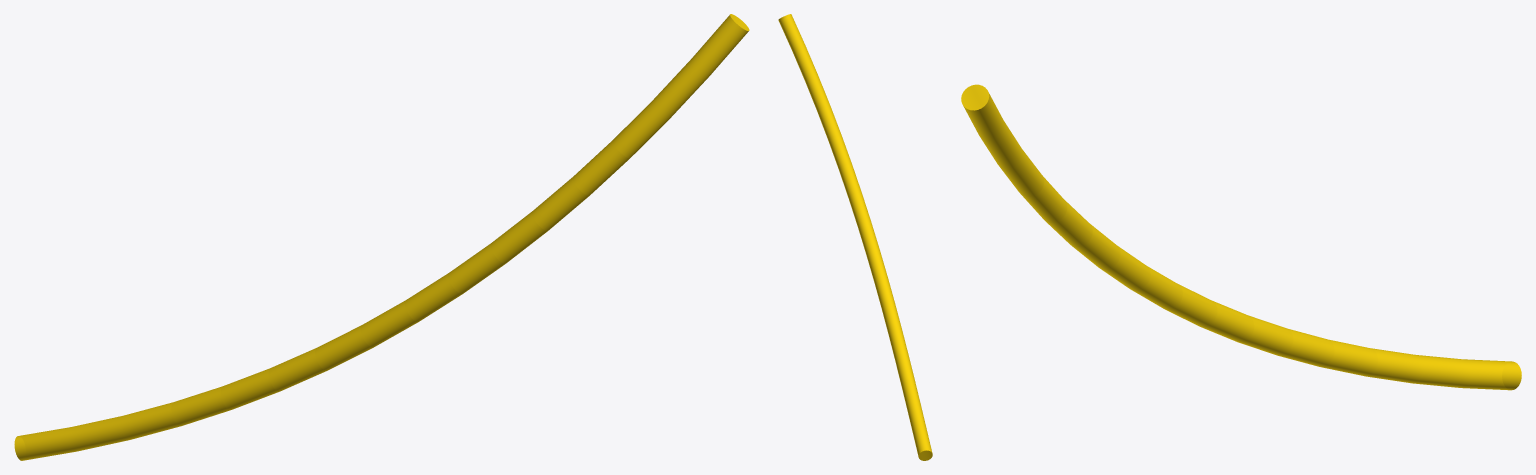
Rendered from Event_421115418_track_50.fbx.
3 renders of one model, left to right at view 1: azimuth 30°, elevation 25°; view 2: azimuth 150°, elevation 25°; view 3: azimuth 270°, elevation 25°, orthographic. The views are drawn at different scales.
Parts seen in each view (by area): view 1: Model; view 2: Model; view 3: Model.
Boxes of the visible parts, left/top/right/bottom form: Model: left=14, top=14, right=749, bottom=460; Model: left=778, top=14, right=932, bottom=460; Model: left=961, top=84, right=1521, bottom=390.
Bounding box in the file's own units: 0.9119 × 0.8679 × 0.7771.
